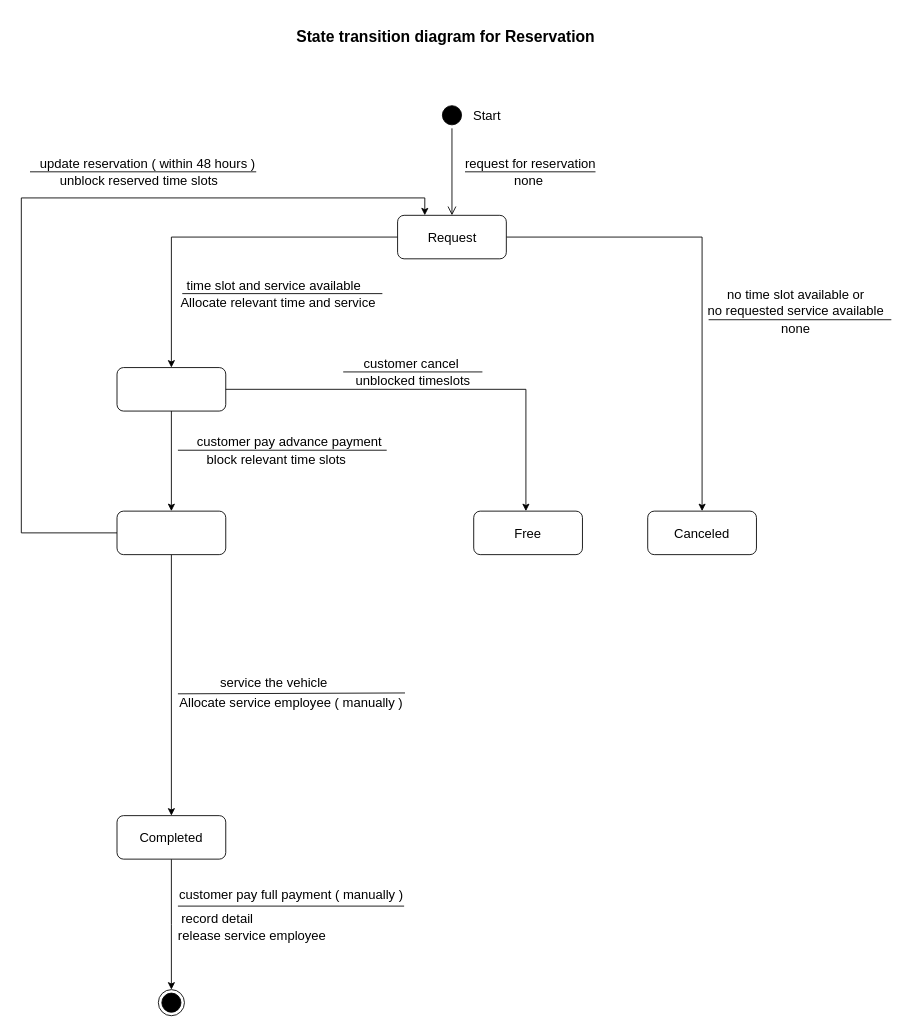
Image size: 907x1031. Some labels were removed from this diagram. Here are the shapes that lost their labels. From the top down, the centre of each, then its label:
At (171,389): "Pending Reservation".
At (171,532): "Confirmed".
